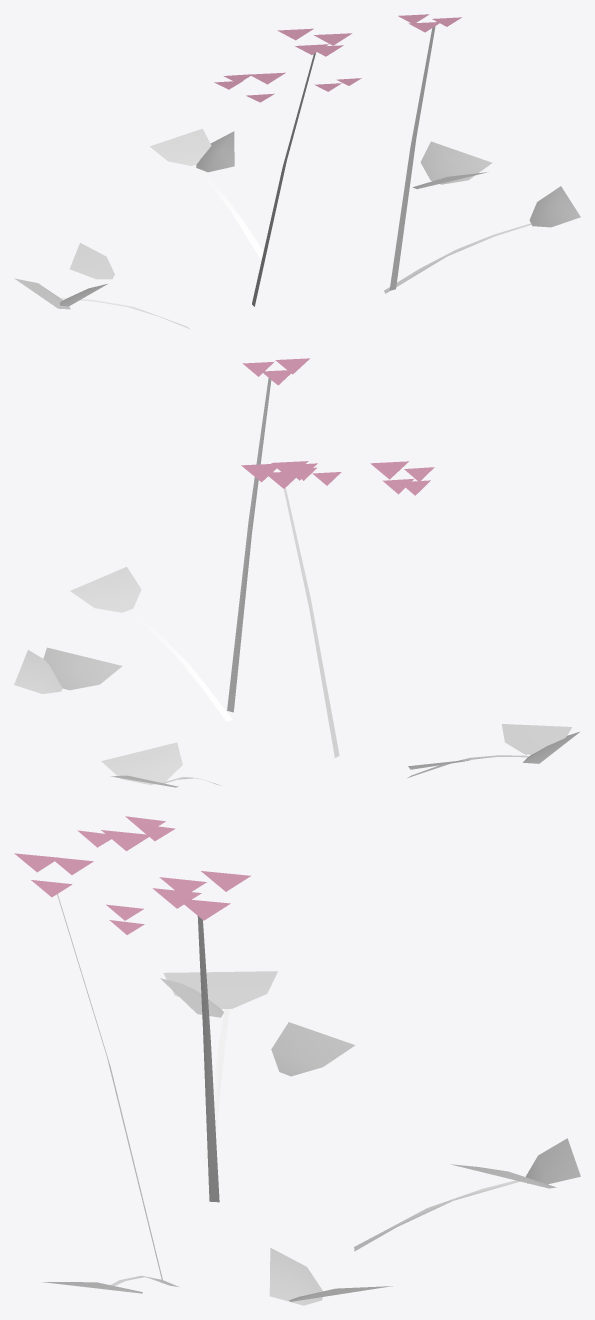
Rendered from RedCloverTuft_LOD1.glb.
3 renders of one model, top to bottom at view 1: azimuth 30°, elevation 25°; view 2: azimuth 150°, elevation 25°; view 3: azimuth 270°, elevation 25°, orthographic. The views are drawn at different scales.
Visible parts, largest first — view 1: RedCloverTuft_LOD1; view 2: RedCloverTuft_LOD1; view 3: RedCloverTuft_LOD1.
Part boxes in pixels (x1=…): RedCloverTuft_LOD1: x1=14, y1=14, x2=580, y2=329; RedCloverTuft_LOD1: x1=14, y1=358, x2=579, y2=787; RedCloverTuft_LOD1: x1=14, y1=816, x2=580, y2=1305.
Bounding box in the file's own units: 1.15 × 0.6806 × 0.8308.
